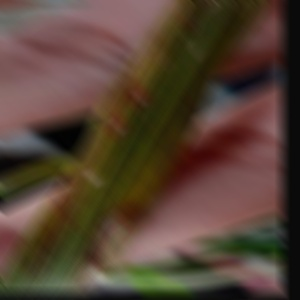Brown_Spot: (81, 198, 159, 264), (109, 83, 147, 114), (98, 107, 132, 140), (79, 168, 107, 201), (51, 171, 81, 195)
